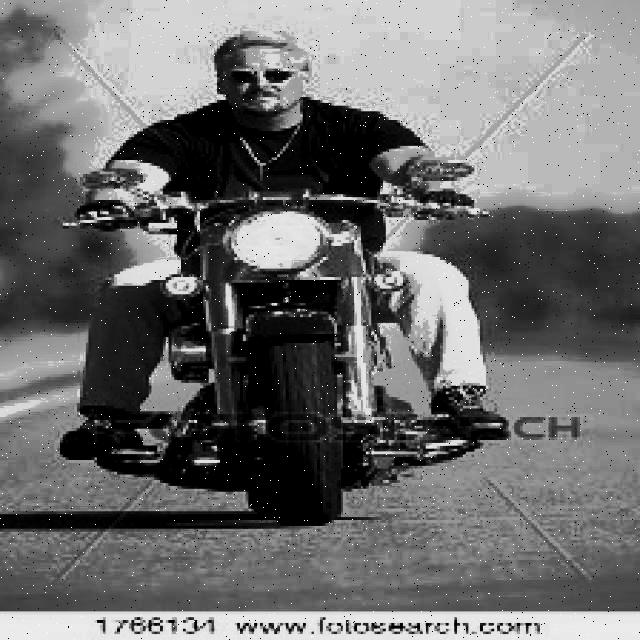Bike: (95, 180, 479, 534)
